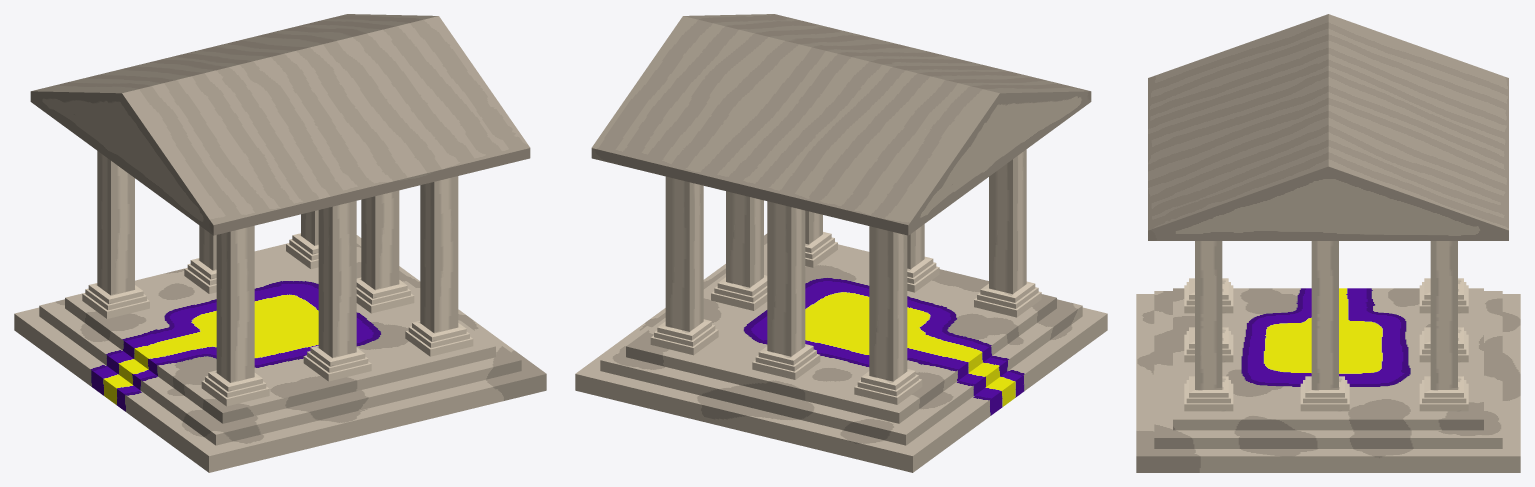
Rendered from parliament.fbx.
The picture shows the model from 3 angles, left to right: view 1: azimuth 30°, elevation 25°; view 2: azimuth 150°, elevation 25°; view 3: azimuth 270°, elevation 25°; orthographic projection.
Parts seen in each view (by area): view 1: Roof, Platform, Column.003, Column.005, Column.001, Column, Column.006, Column.004, Column.002; view 2: Roof, Platform, Column.004, Column.002, Column, Column.001, Column.006, Column.005, Column.003; view 3: Roof, Platform, Column.002, Column.003, Column.006, Column, Column.001, Column.004, Column.005.
Boxes of the visible parts, box(x1,y1,x2,y2) form: Roof: box(30, 14, 530, 235); Platform: box(14, 235, 546, 472); Column.003: box(405, 176, 473, 356); Column.005: box(303, 201, 371, 381); Column.001: box(201, 225, 269, 406); Column: box(82, 151, 149, 318); Column.006: box(356, 190, 414, 313); Column.004: box(184, 225, 216, 293); Column.002: box(286, 210, 318, 269); Roof: box(591, 14, 1091, 235); Platform: box(575, 233, 1107, 472); Column.004: box(752, 201, 820, 379); Column.002: box(650, 176, 718, 355); Column: box(854, 226, 922, 404); Column.001: box(974, 149, 1041, 317); Column.006: box(711, 191, 767, 310); Column.005: box(907, 224, 939, 292); Column.003: box(805, 210, 837, 267); Roof: box(1148, 14, 1508, 240); Platform: box(1136, 288, 1520, 472); Column.002: box(1419, 241, 1468, 411); Column.003: box(1184, 241, 1233, 411); Column.006: box(1300, 241, 1349, 411); Column: box(1419, 278, 1468, 313); Column.001: box(1184, 278, 1233, 313); Column.004: box(1419, 327, 1468, 362); Column.005: box(1184, 327, 1233, 362).
Bounding box in the file's own units: 710 × 615 × 710.
Materials: 3 (3 with a texture image).
